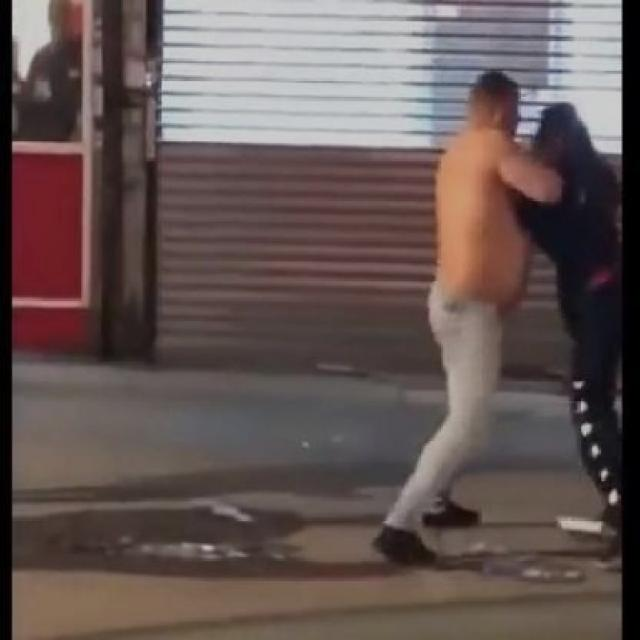fight: (409, 69, 622, 569)
